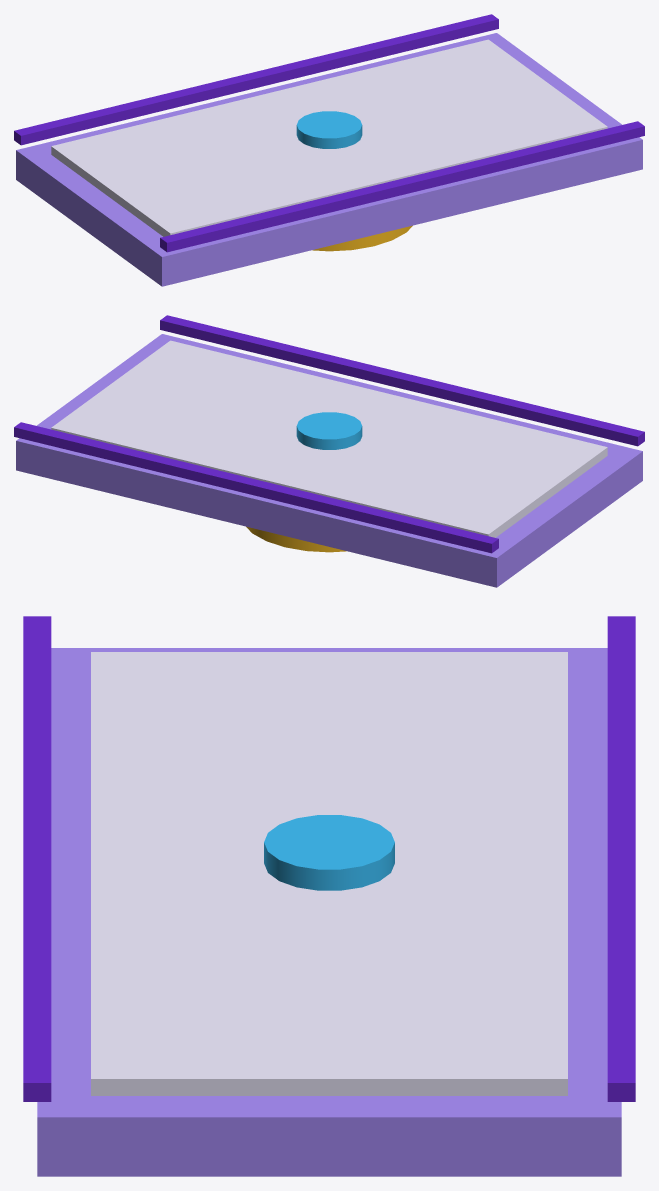
Rendered from toy_castle_tilt_balance_board.glb.
The picture shows the model from 3 angles, top to bottom: view 1: azimuth 30°, elevation 25°; view 2: azimuth 150°, elevation 25°; view 3: azimuth 270°, elevation 25°; orthographic projection. The views are drawn at different scales.
Visible parts, largest first — view 1: solid_2, solid_1, solid_3, solid_4, solid_6, solid_5; view 2: solid_2, solid_1, solid_3, solid_4, solid_6, solid_5; view 3: solid_2, solid_1, solid_3, solid_4, solid_6.
Part boxes in pixels (x1=…): solid_2: x1=51, y1=39, x2=607, y2=236; solid_1: x1=16, y1=33, x2=642, y2=286; solid_3: x1=14, y1=14, x2=498, y2=145; solid_4: x1=160, y1=121, x2=644, y2=252; solid_6: x1=296, y1=111, x2=362, y2=148; solid_5: x1=312, y1=225, x2=412, y2=251; solid_2: x1=51, y1=340, x2=607, y2=537; solid_1: x1=16, y1=334, x2=642, y2=587; solid_3: x1=14, y1=422, x2=498, y2=553; solid_4: x1=160, y1=315, x2=644, y2=446; solid_6: x1=296, y1=412, x2=362, y2=449; solid_5: x1=246, y1=526, x2=346, y2=552; solid_2: x1=91, y1=652, x2=567, y2=1095; solid_1: x1=37, y1=648, x2=621, y2=1176; solid_3: x1=607, y1=616, x2=635, y2=1101; solid_4: x1=23, y1=616, x2=51, y2=1101; solid_6: x1=264, y1=815, x2=394, y2=890.
Bounding box in the file's own units: 4.75 × 0.84 × 2.62.
